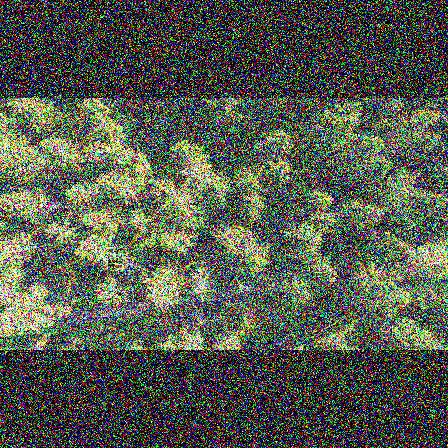Sick: (111, 249, 150, 282), (400, 205, 420, 227)
